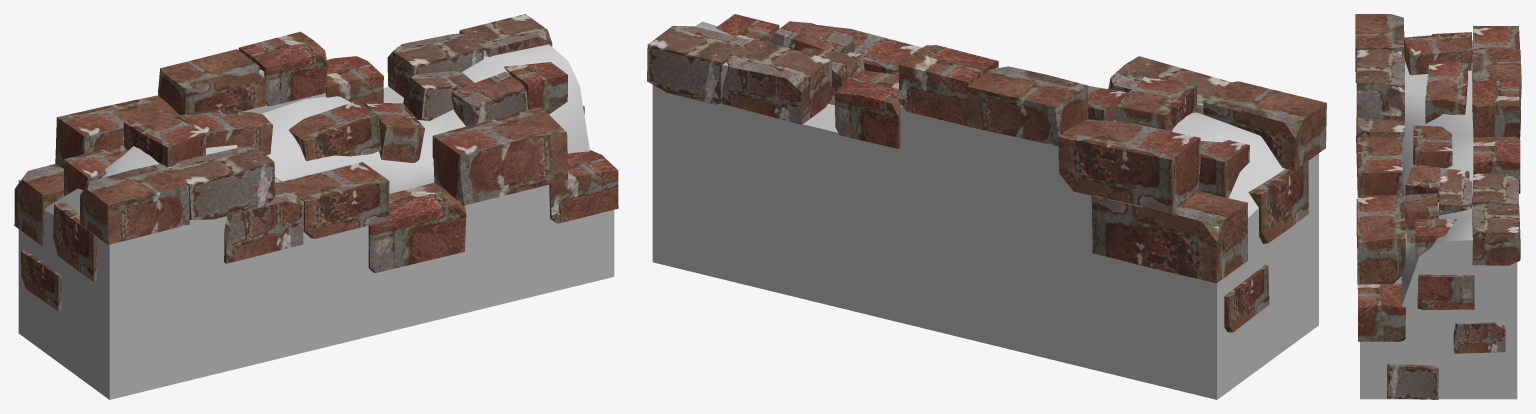
The model's file is SM_Wall_Thick_Ruined_02.fbx.
The picture shows the model from 3 angles, left to right: view 1: azimuth 30°, elevation 25°; view 2: azimuth 150°, elevation 25°; view 3: azimuth 270°, elevation 25°; orthographic projection. The views are drawn at different scales.
Parts seen in each view (by area): view 1: SM_Wall_Thick_Ruined_02_LOD0; view 2: SM_Wall_Thick_Ruined_02_LOD0; view 3: SM_Wall_Thick_Ruined_02_LOD0.
Part boxes in pixels (x1,y1,x2,y2): SM_Wall_Thick_Ruined_02_LOD0: (14,14,618,399); SM_Wall_Thick_Ruined_02_LOD0: (647,14,1326,399); SM_Wall_Thick_Ruined_02_LOD0: (1355,14,1521,399).
Size of what is drawn, in the model's own units: 407 by 176 by 132.
